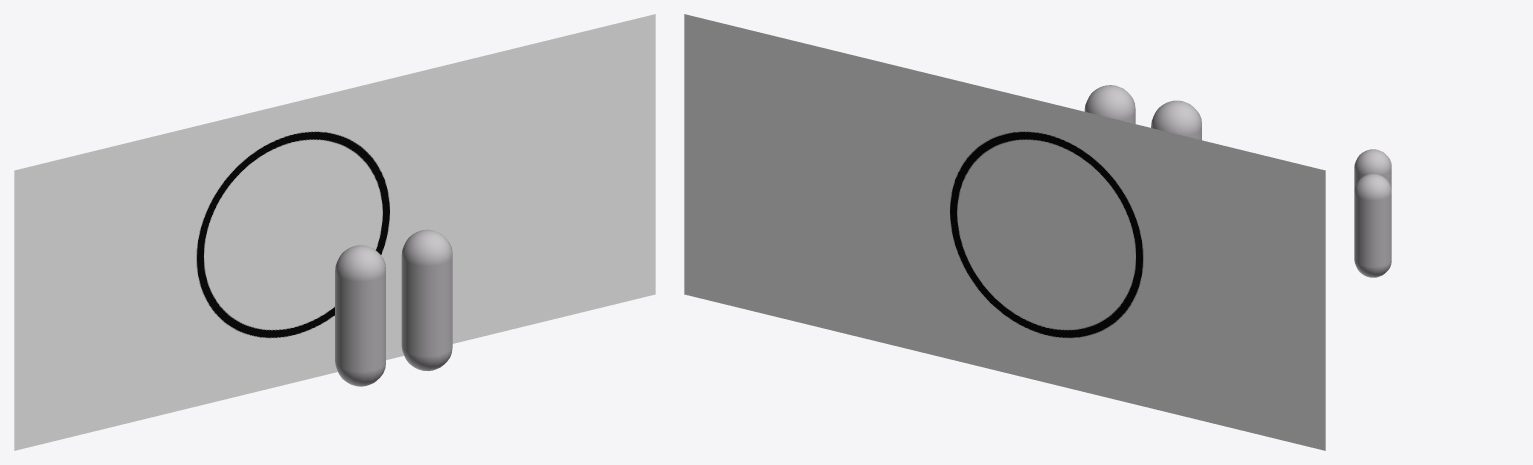
Rendered from pause.fbx.
The picture shows the model from 3 angles, left to right: view 1: azimuth 30°, elevation 25°; view 2: azimuth 150°, elevation 25°; view 3: azimuth 270°, elevation 25°; orthographic projection. The views are drawn at different scales.
Visible parts, largest first — view 1: root (×3); view 2: root (×3); view 3: root (×2).
Boxes of the visible parts, <box> form: root (×3): <box>14,14,655,450</box>; root (×3): <box>684,14,1325,450</box>; root (×2): <box>1354,149,1391,277</box>.
Size of the model in its own units: 0.862 by 0.36 by 0.26.
3 materials, 3 textured.
